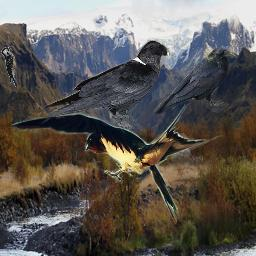Crow: (41, 40, 172, 133), (152, 47, 237, 116)
Swallow: (9, 103, 241, 224)
Woodpecker: (1, 45, 23, 87)
